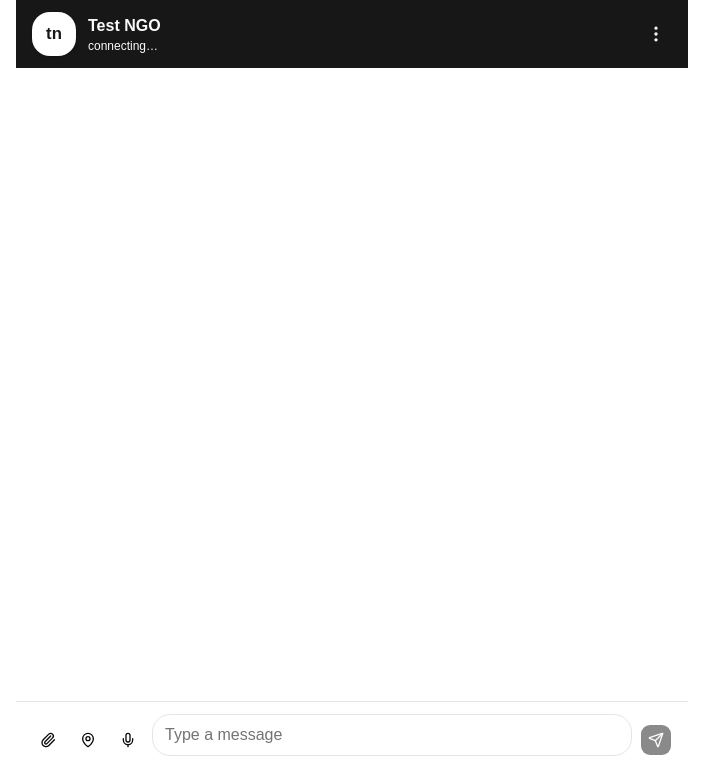
Test: <Chat /> media, voice and location composers › surfaces a refused location instead of doing nothing
Expected: the text box with test id "composerInput" is shown, top-left (152, 714), bottom-right (632, 756)
Click the button with test id "locationButton".
click(88, 740)  # box top-left (72, 724), bottom-right (104, 756)
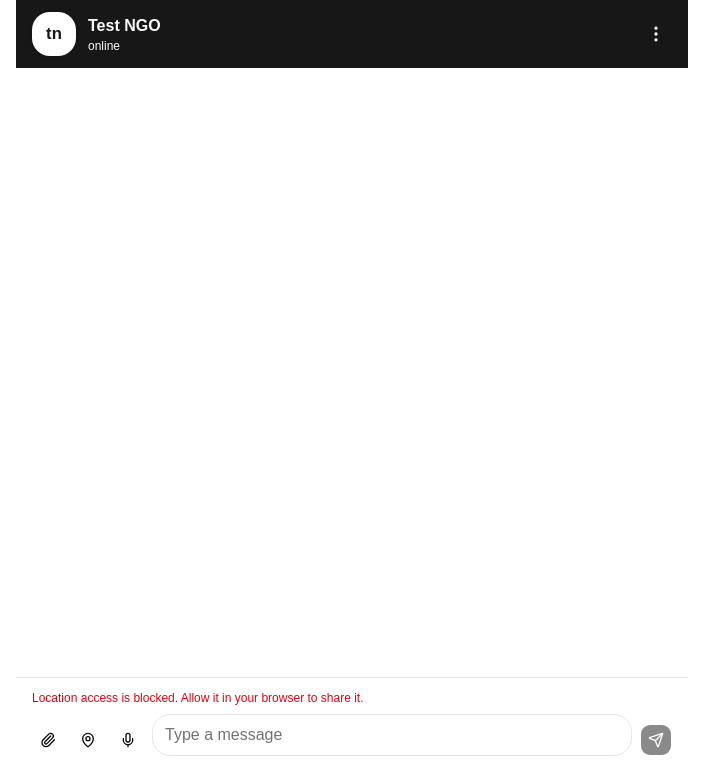
Expected: the text with test id "composerError" shows "blocked", top-left (32, 691), bottom-right (364, 705)
